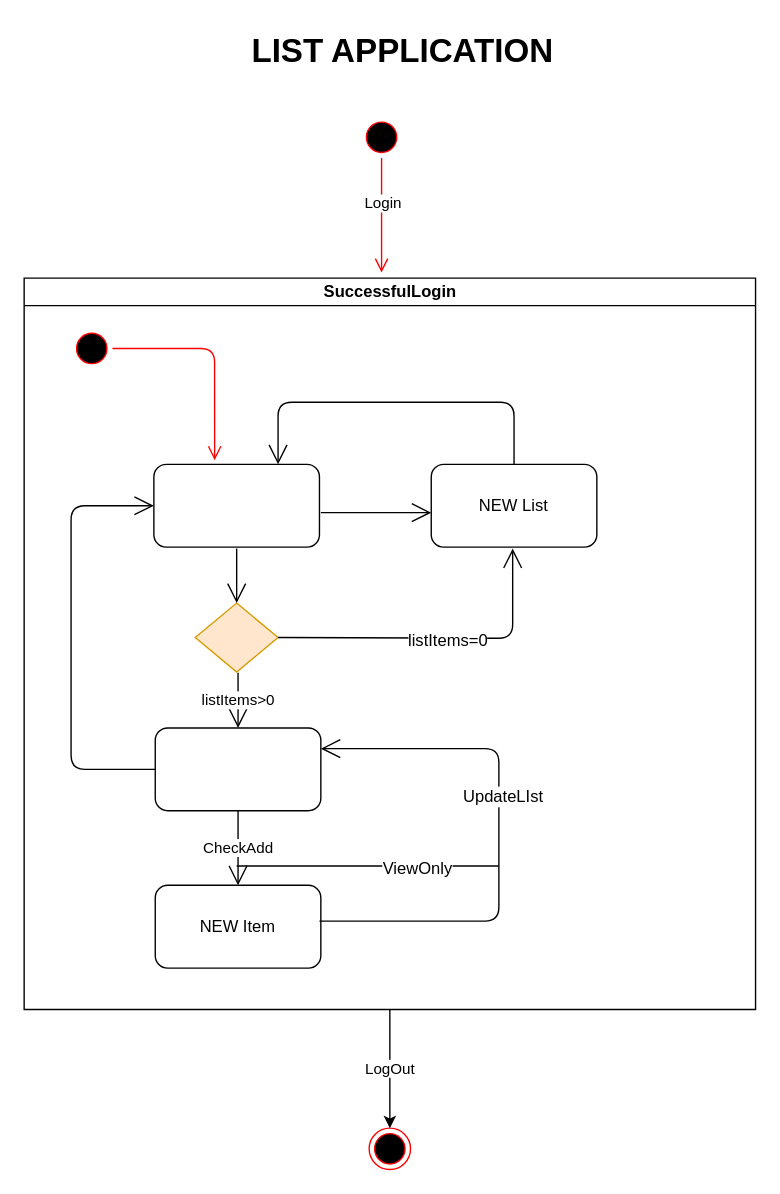
This 780x1194 diagram has some shape labels left out. Each missing label, with the centre of its shape:
List Items: the point at 237,769
Show Lists: the point at 235,505
